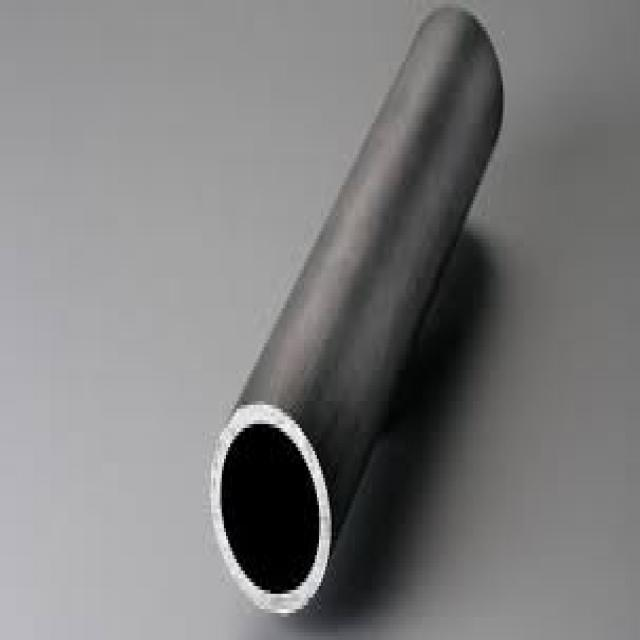pipe: (212, 406, 332, 614)
